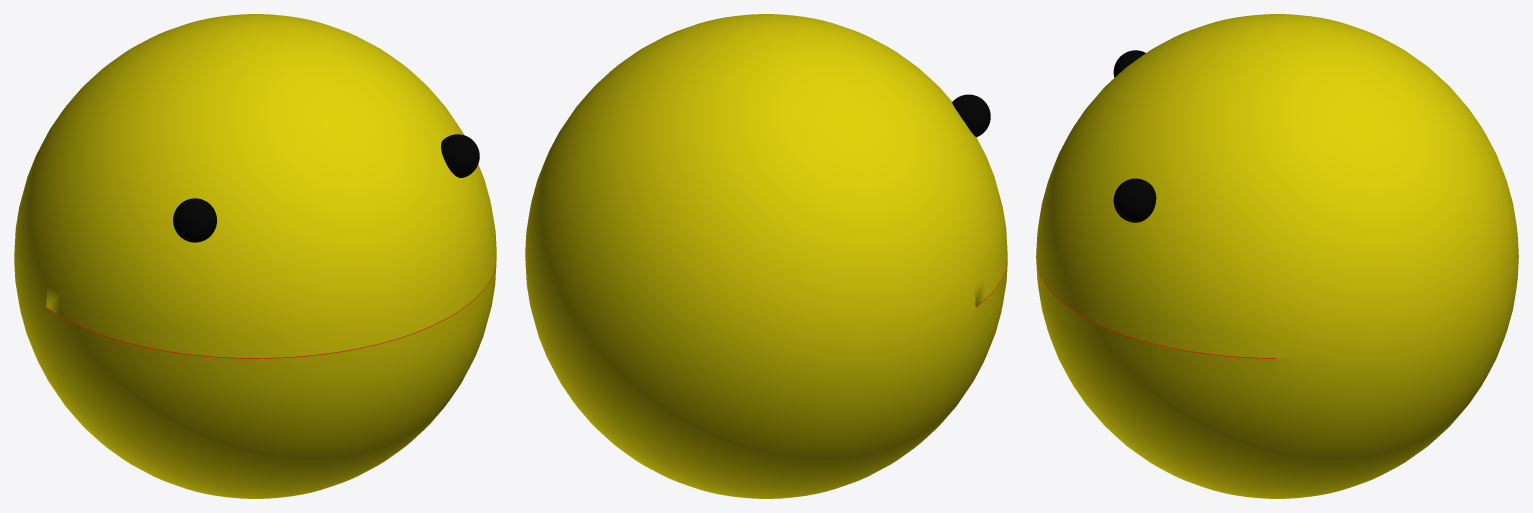
The model's file is pacman1.obj.
The picture shows the model from 3 angles, left to right: view 1: azimuth 30°, elevation 25°; view 2: azimuth 150°, elevation 25°; view 3: azimuth 270°, elevation 25°; orthographic projection.
Visible parts, largest first — view 1: Body; view 2: Body; view 3: Body.
Boxes of the visible parts, left/top/right/bottom form: Body: left=14, top=14, right=496, bottom=498; Body: left=525, top=14, right=1007, bottom=498; Body: left=1036, top=14, right=1518, bottom=498.
Bounding box in the file's own units: 6.6 × 6.67 × 6.6.
Materials: 1 (1 with a texture image).
